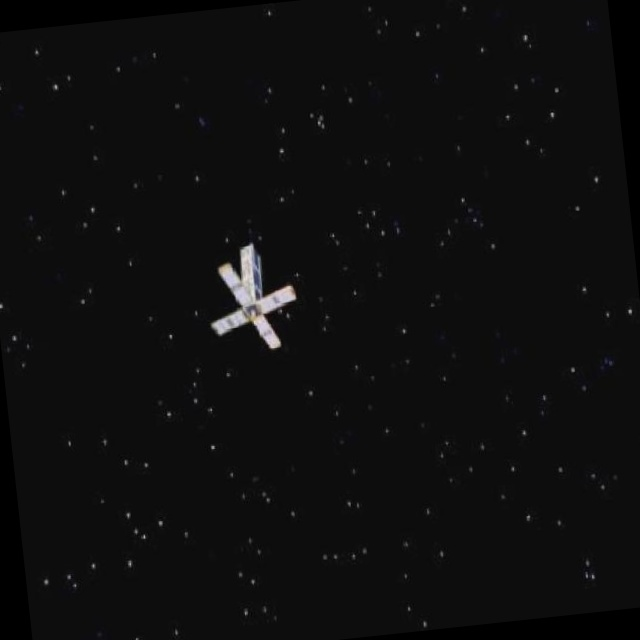satellite: (191, 233, 301, 362)
